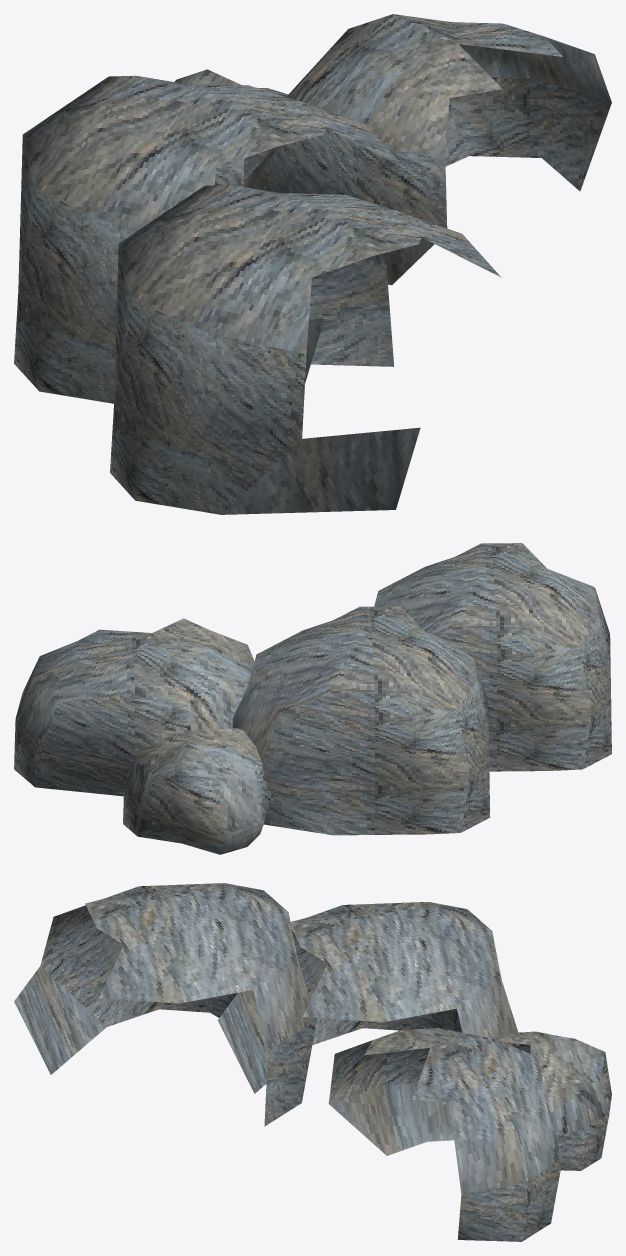
The model's file is stones.FBX.
3 renders of one model, top to bottom at view 1: azimuth 30°, elevation 25°; view 2: azimuth 150°, elevation 25°; view 3: azimuth 270°, elevation 25°, orthographic. The views are drawn at different scales.
Parts seen in each view (by area): view 1: stones, stones001; view 2: stones, stones001; view 3: stones, stones001.
Part boxes in pixels (x1,y1,x2,y2): stones: (14, 14, 611, 403); stones001: (110, 185, 501, 514); stones: (14, 606, 490, 854); stones001: (374, 543, 611, 771); stones: (217, 902, 611, 1241); stones001: (14, 883, 316, 1126).
Bounding box in the file's own units: 316 × 109 × 329.
